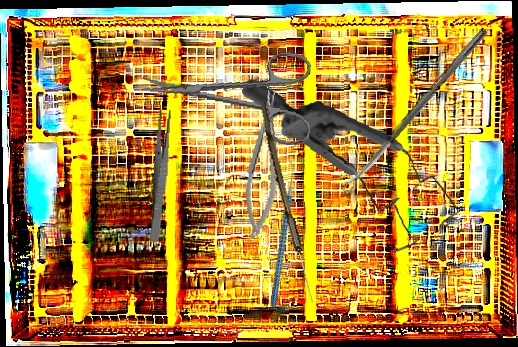Chopper: (221, 154, 340, 308)
Dressing Forceps: (148, 109, 173, 243)
Iris Scissors: (136, 34, 319, 148)
Needle Holder: (237, 88, 292, 242)
Speculum: (229, 77, 470, 259)
Surgical Spoon: (340, 26, 489, 195), (254, 101, 319, 305)
